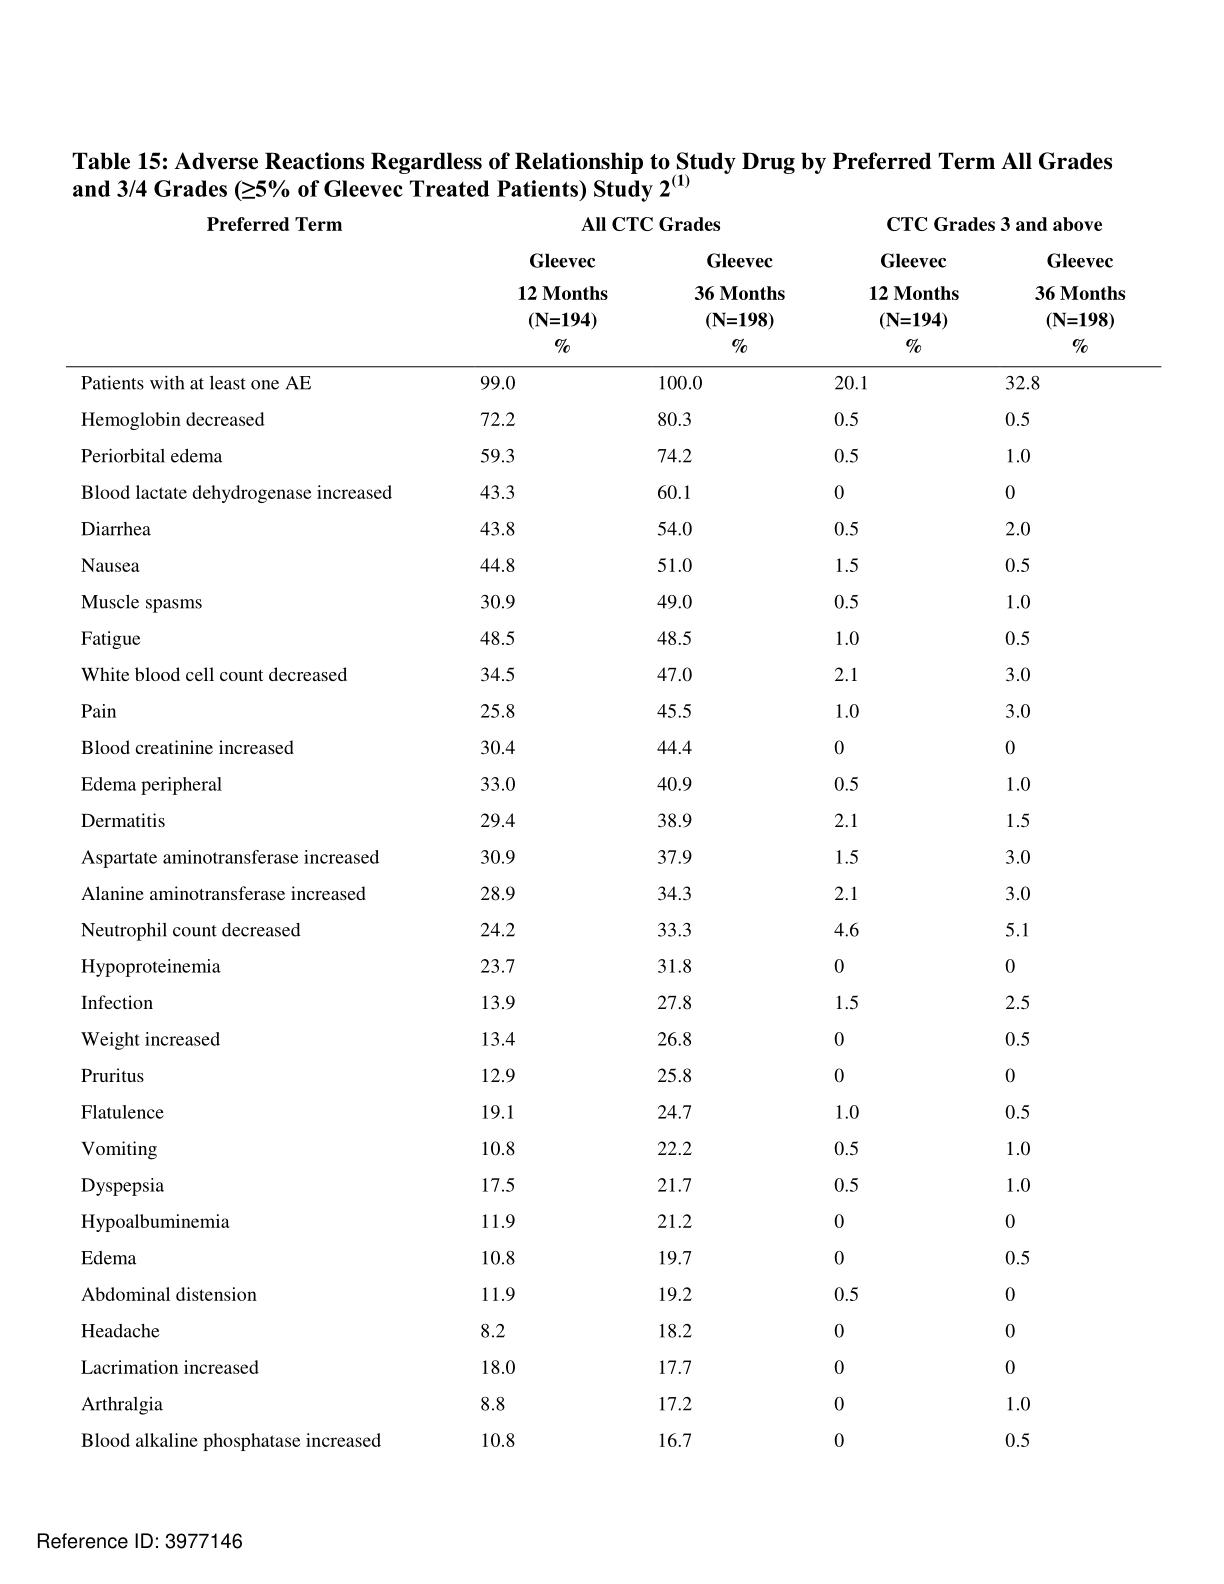partial_lined_merged_cells: (63, 210, 1160, 1459)
